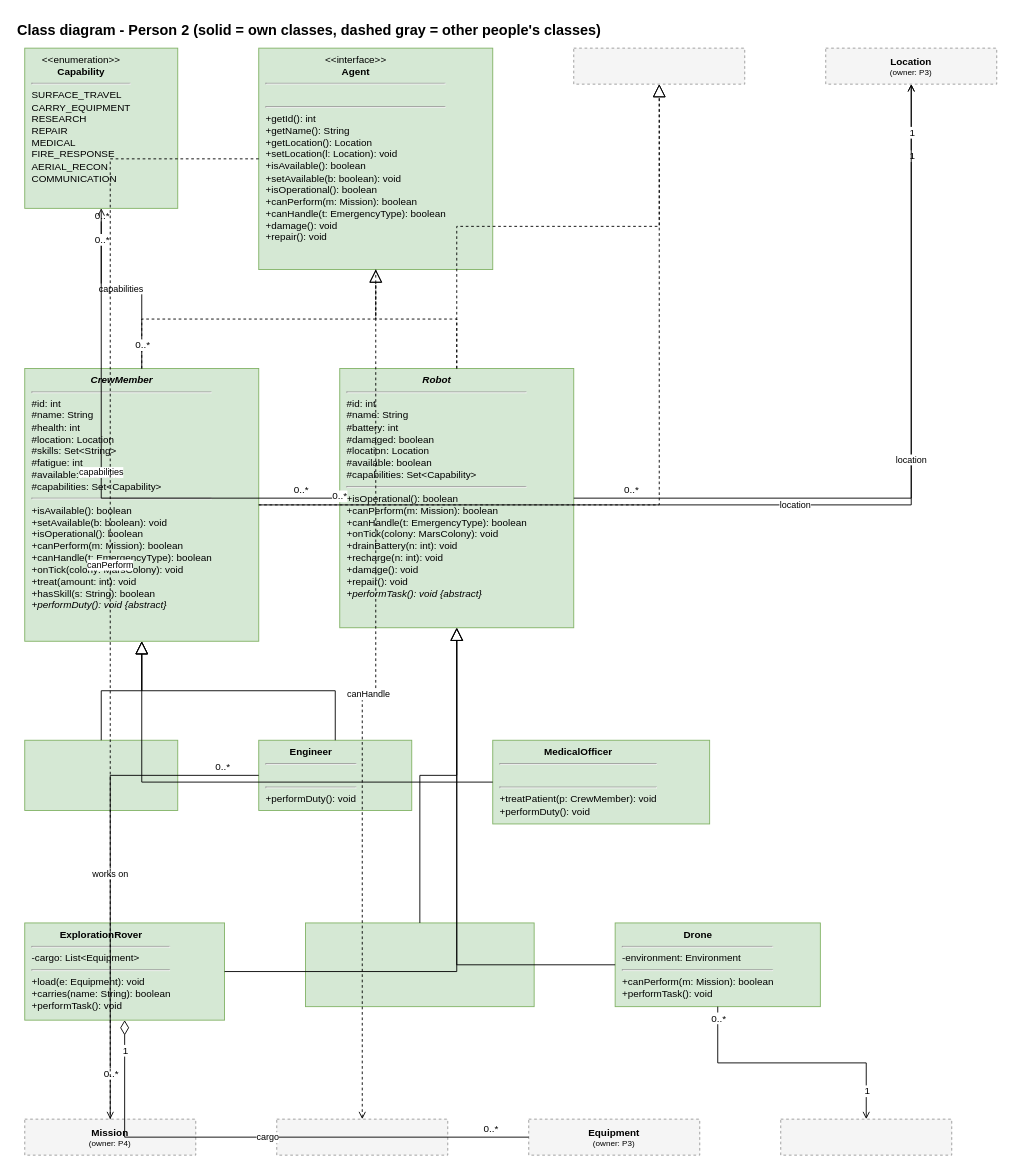
The diagram is 1013 pixels wide and 1171 high, and some of its shapes have lost their labels. Each missing label, with the centre of its shape:
EmergencyType (owner: P3): the point at 362,1136
Environment (owner: P1): the point at 866,1136
RepairRobot +repairEquipment(e: Equipment): void +performTask(): void: the point at 419,964
Scientist +performDuty(): void: the point at 101,774
Tickable (owner: P1): the point at 659,65
